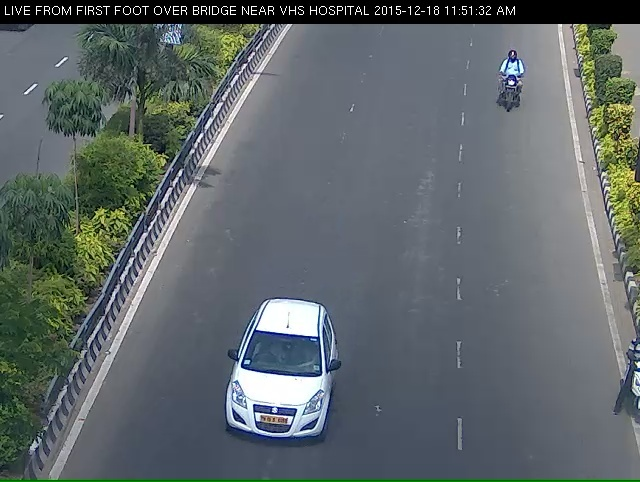Car: (207, 319, 352, 476)
Person: (493, 51, 530, 123)
